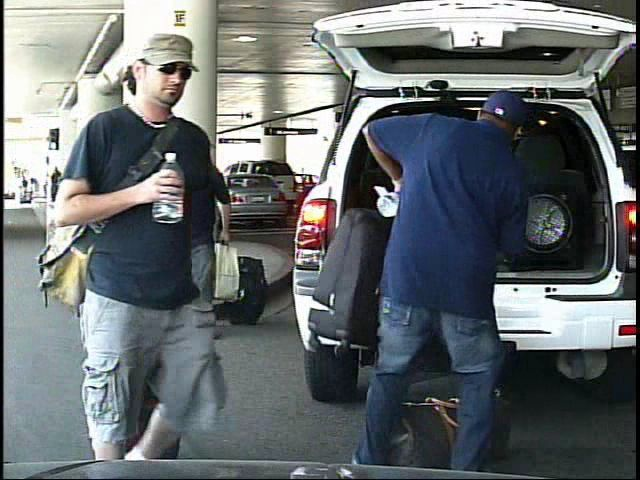person: (338, 82, 544, 472), (44, 42, 217, 469), (140, 123, 252, 342), (13, 173, 24, 204)
